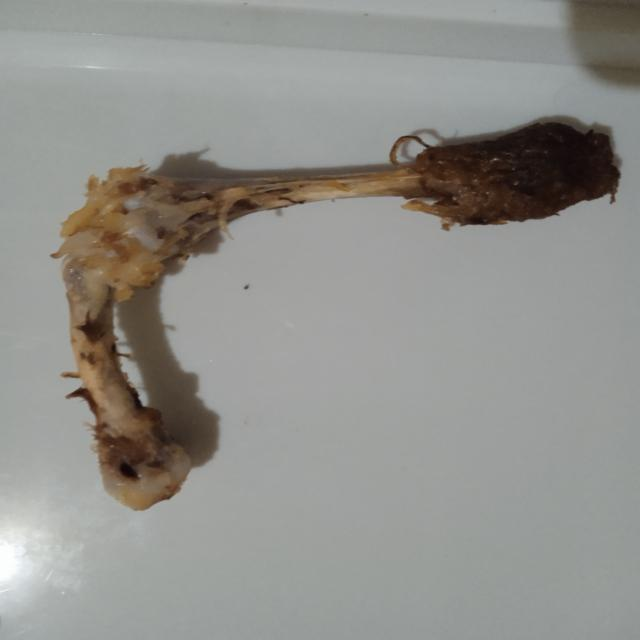bone: (46, 107, 630, 520)
